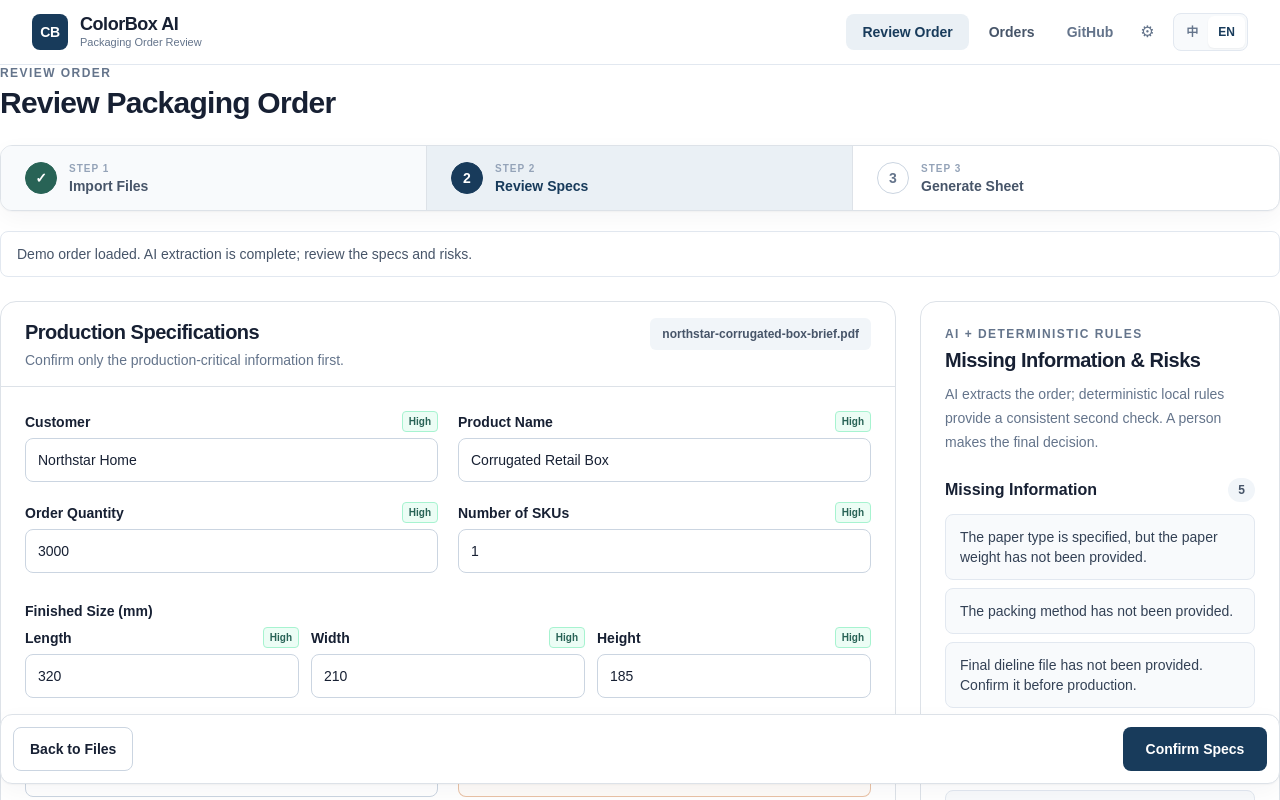
Test: Public Demo Generate Sheet interaction › corrugated-box confirms specs and generates a sheet without persistence
The image size is (1280, 800).
Expected: the field showing "Northstar Home" is shown, [25,438,438,482]
Click the button "Confirm Specs": (1195, 749) [1123,727,1267,771]
(page scrolled)
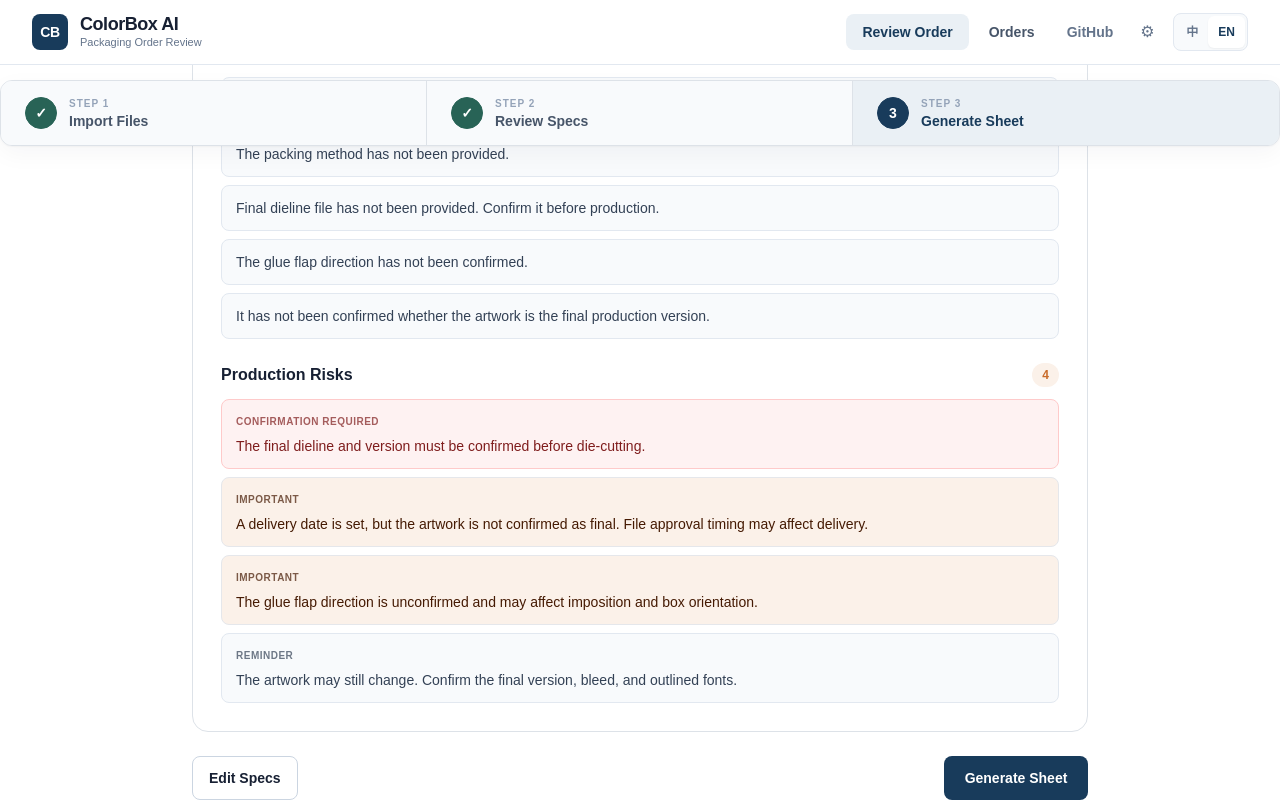
Click the button "Generate Sheet": (1016, 778) [944,756,1088,799]
(page scrolled)
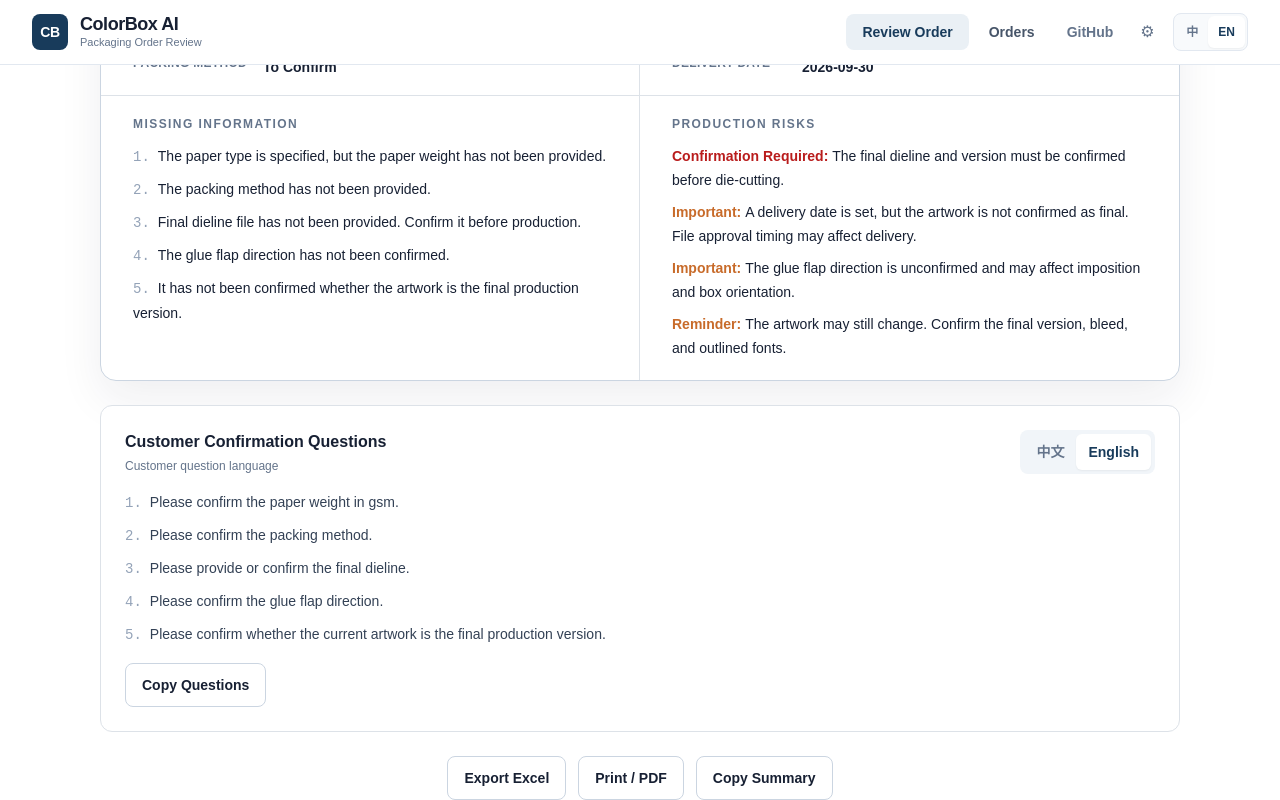
Expected: the button "Export Excel" is shown, [448,756,566,799]
Expected: the button "Print / PDF" is shown, [578,756,684,799]
